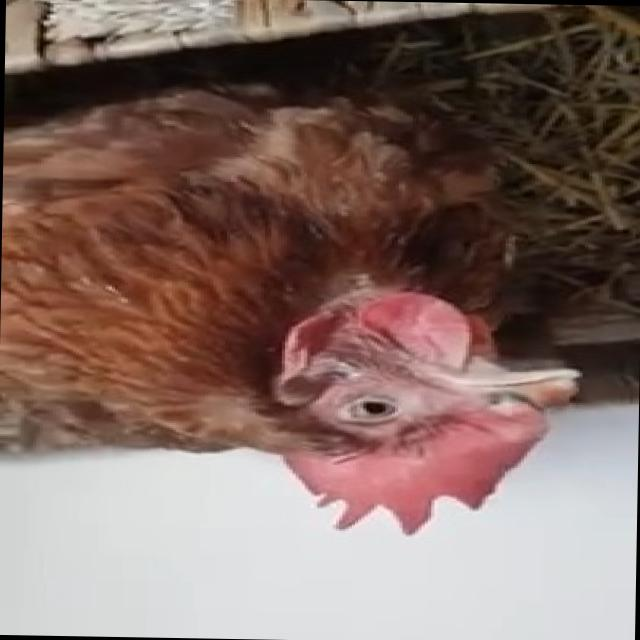bird flu: (0, 74, 600, 550)
